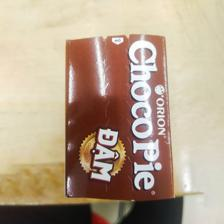Chocopie_cacao: (62, 33, 175, 200)
